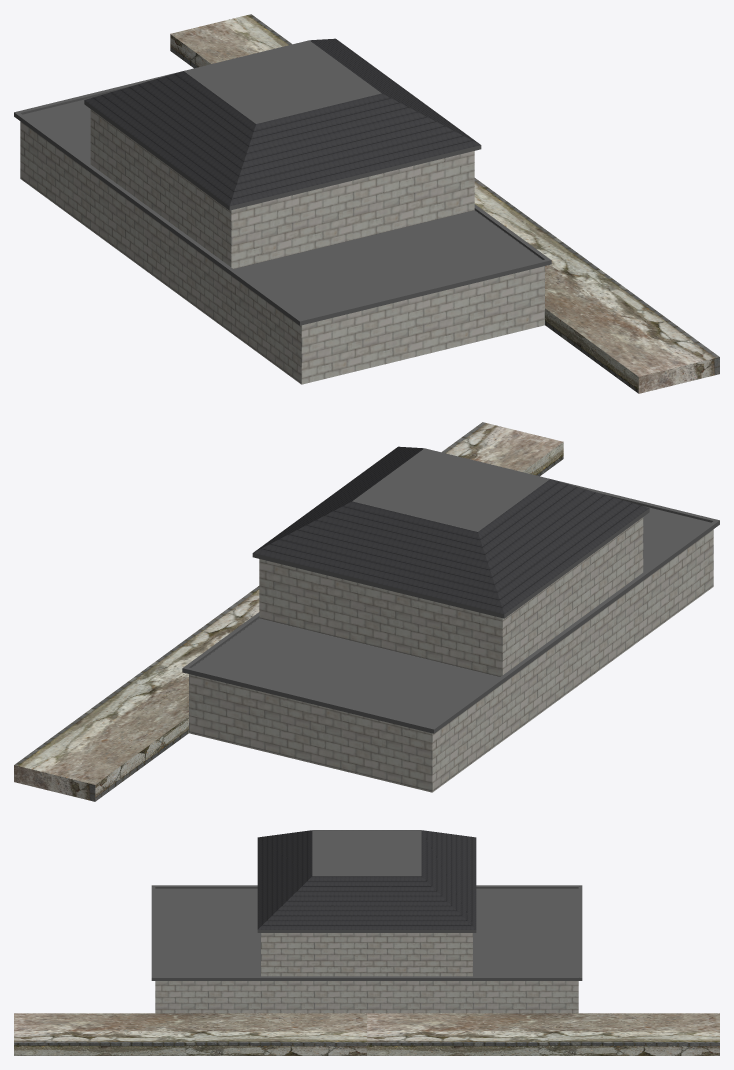
The model's file is gare.fbx.
The picture shows the model from 3 angles, top to bottom: view 1: azimuth 30°, elevation 25°; view 2: azimuth 150°, elevation 25°; view 3: azimuth 270°, elevation 25°; orthographic projection. The views are drawn at different scales.
Visible parts, largest first — view 1: Gare_Cube_002, Gare_toit_Plane, Gare_etage_Cube_000, Gare_quai_Cube_001; view 2: Gare_Cube_002, Gare_toit_Plane, Gare_etage_Cube_000, Gare_quai_Cube_001; view 3: Gare_Cube_002, Gare_quai_Cube_001, Gare_toit_Plane, Gare_etage_Cube_000.
Boxes of the visible parts, x1,y1,x2,y2 form: Gare_Cube_002: [20, 98, 544, 384]; Gare_toit_Plane: [14, 38, 551, 325]; Gare_etage_Cube_000: [90, 109, 474, 268]; Gare_quai_Cube_001: [170, 14, 719, 393]; Gare_Cube_002: [189, 506, 713, 792]; Gare_toit_Plane: [182, 446, 719, 733]; Gare_etage_Cube_000: [259, 517, 643, 676]; Gare_quai_Cube_001: [14, 422, 563, 801]; Gare_Cube_002: [155, 888, 578, 1013]; Gare_quai_Cube_001: [14, 1013, 719, 1055]; Gare_toit_Plane: [151, 830, 582, 980]; Gare_etage_Cube_000: [261, 933, 472, 976].
Size of the model in its own units: 81 by 40 by 200.
4 materials, 4 textured.
